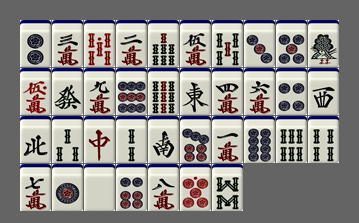0m: (20, 68, 51, 115)
0p: (180, 164, 211, 211)
0s: (84, 20, 115, 67)
1m: (212, 116, 243, 163)
1p: (52, 164, 83, 211)
1s: (308, 20, 339, 67)
1z: (180, 68, 211, 115)
2m: (116, 20, 147, 67)
2p: (20, 20, 51, 67)
2s: (116, 116, 147, 163)
2z: (148, 116, 179, 163)
3m: (52, 20, 83, 67)
3p: (244, 20, 275, 67)
3s: (52, 116, 83, 163)
3z: (308, 68, 339, 115)
4m: (212, 68, 243, 115)
4p: (276, 68, 307, 115)
4s: (308, 116, 339, 163)
4z: (20, 116, 51, 163)
5m: (180, 20, 211, 67)
5p: (276, 20, 307, 67)
5s: (212, 20, 243, 67)
5z: (84, 164, 115, 211)
6m: (244, 68, 275, 115)
6p: (116, 164, 147, 211)
6s: (276, 116, 307, 163)
6z: (52, 68, 83, 115)
7m: (20, 164, 51, 211)
7p: (180, 116, 211, 163)
7s: (148, 20, 179, 67)
7z: (84, 116, 115, 163)
8m: (148, 164, 179, 211)
8p: (244, 116, 275, 163)
8s: (212, 164, 243, 211)
9m: (84, 68, 115, 115)
9p: (116, 68, 147, 115)
9s: (148, 68, 179, 115)
